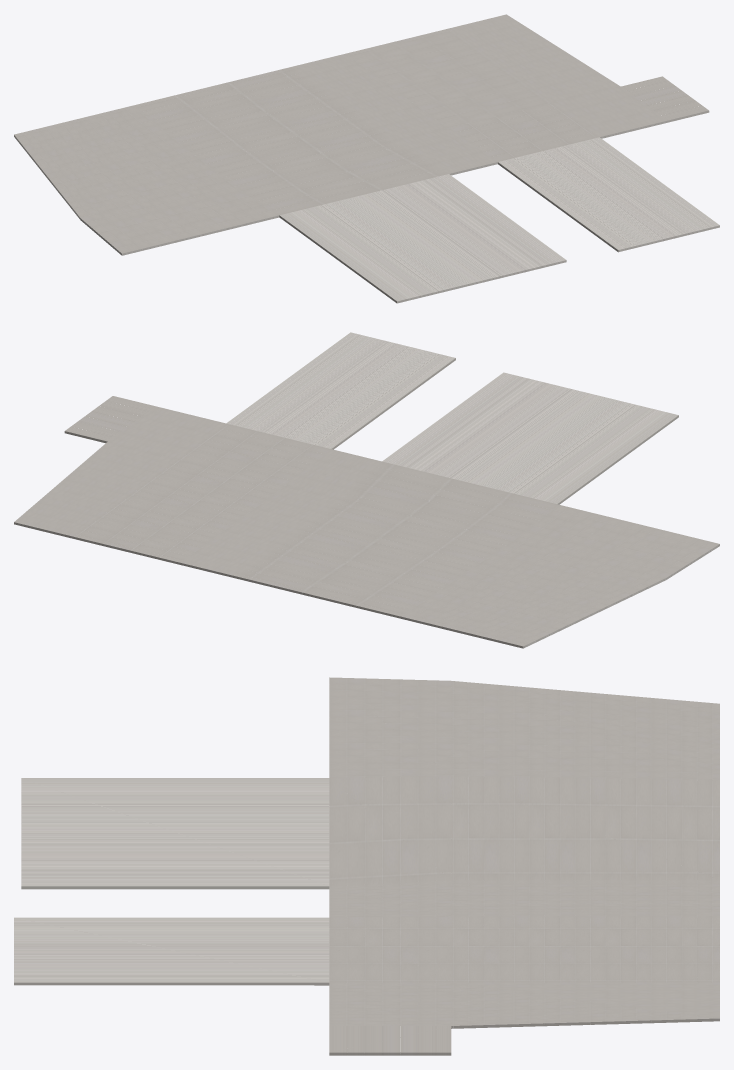
The model's file is Lantai-1.glb.
The picture shows the model from 3 angles, top to bottom: view 1: azimuth 30°, elevation 25°; view 2: azimuth 150°, elevation 25°; view 3: azimuth 270°, elevation 25°; orthographic projection. The views are drawn at different scales.
Visible parts, largest first — view 1: lantain1; view 2: lantain1; view 3: lantain1.
Part boxes in pixels (bbox=[...]): lantain1: bbox=[14, 14, 719, 303]; lantain1: bbox=[14, 332, 719, 648]; lantain1: bbox=[14, 677, 719, 1055].
Bounding box in the file's own units: 56.92 × 0.1974 × 45.26.
1 material, 1 textured.
